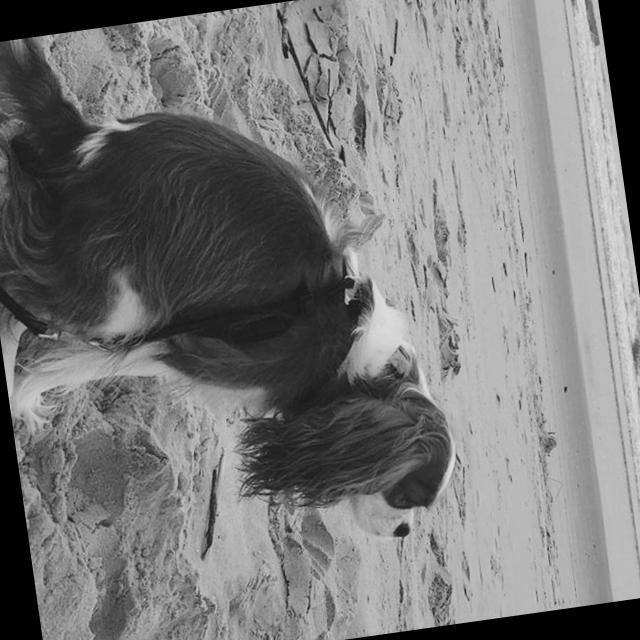squatting: (0, 0, 477, 602)
